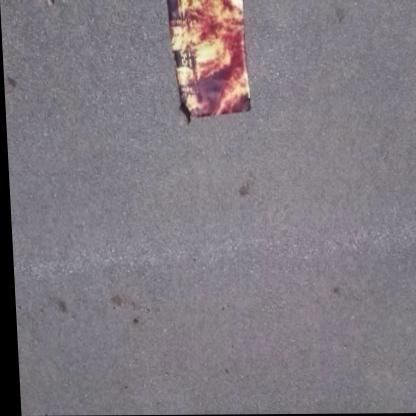fire-poster: (166, 0, 253, 126)
